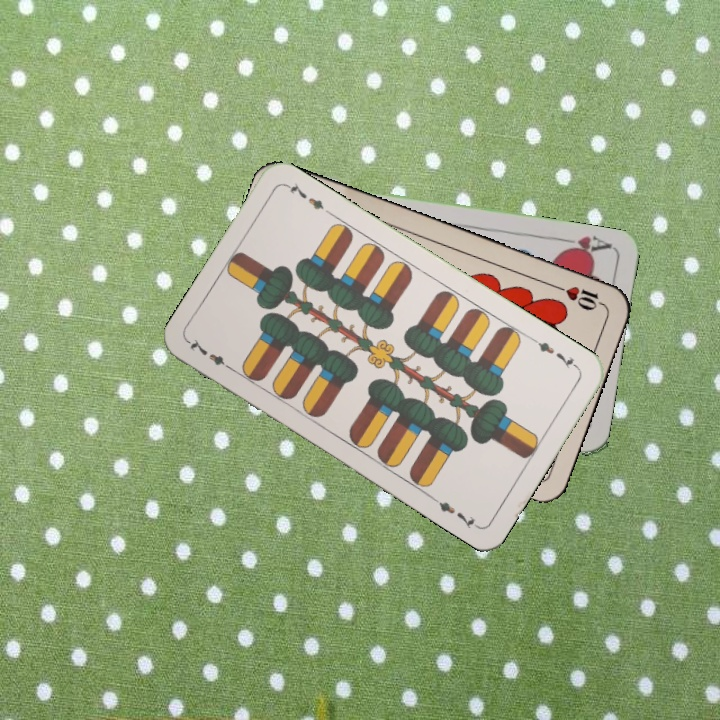E7: (184, 334, 237, 374), (528, 334, 581, 371)
H10: (549, 280, 606, 313)
HA: (555, 232, 615, 259)
